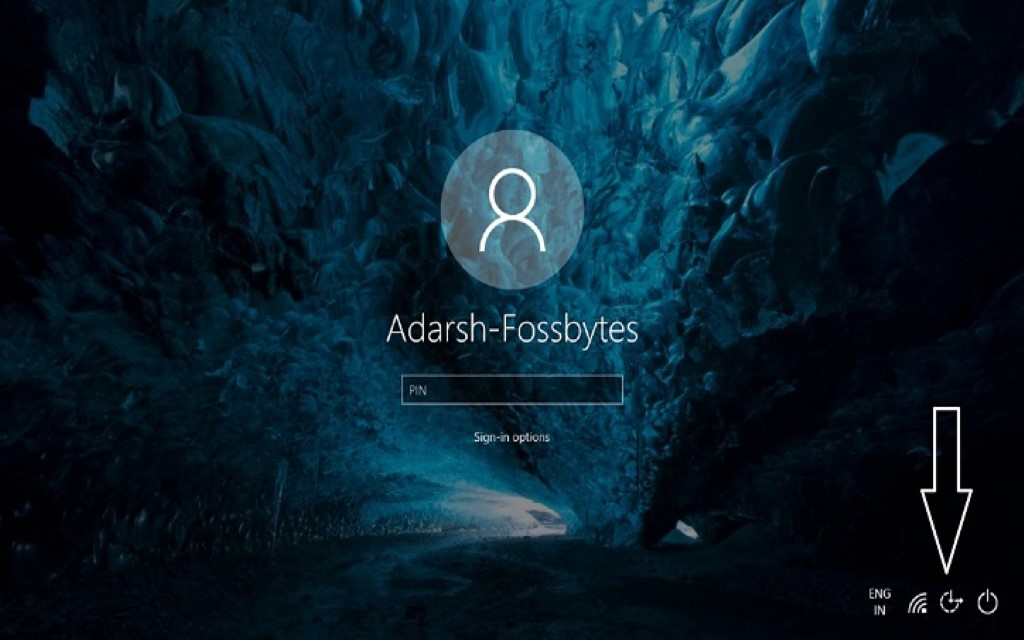textbox: (403, 376, 621, 405)
